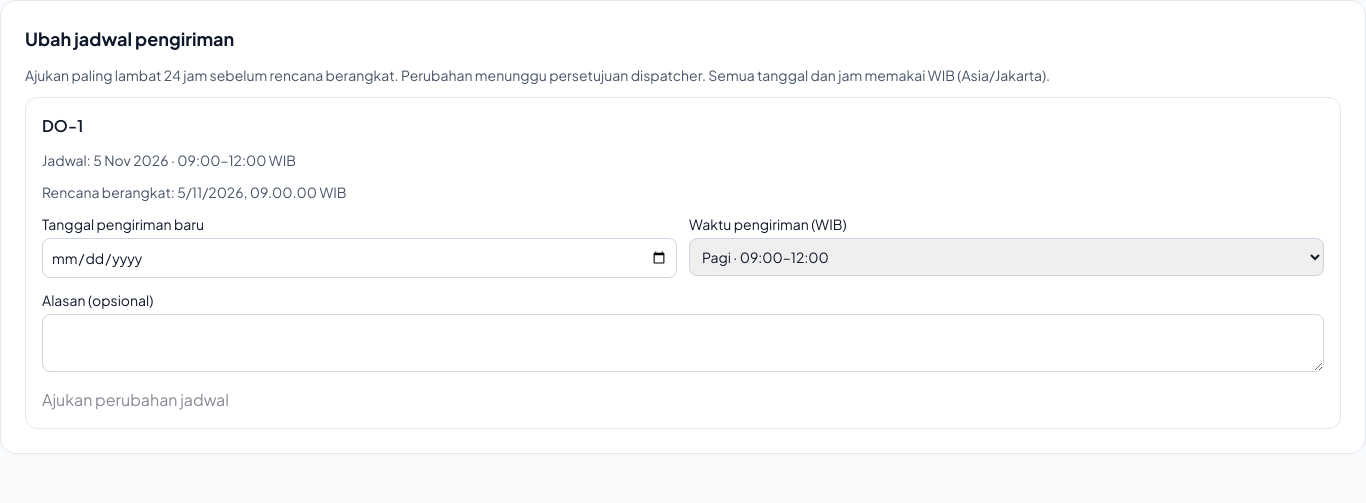
Scenario: Customer rescheduling › shows backend cutoff errors without pretending request succeeded
Expected: the heading "DO-1" is shown, 42,115 -> 83,136
Type "2026-11-06" into the date field labelled "Tanggal pengiriman baru". click: (360, 258)
box: 42,238 -> 677,278
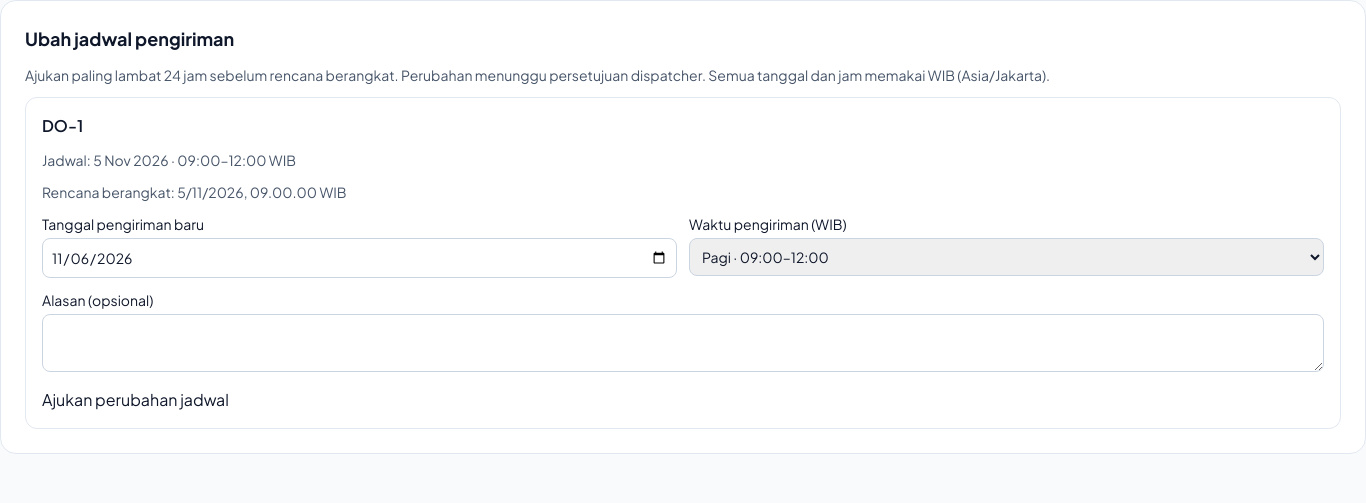
Click the button "Ajukan perubahan jadwal". click: (135, 400)
box: 42,388 -> 229,412
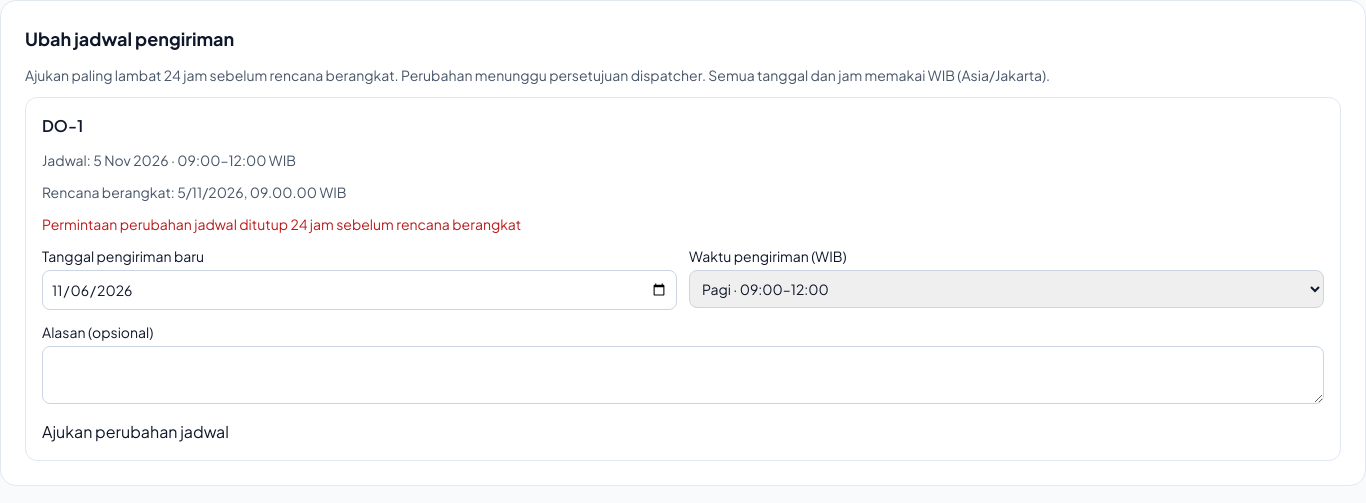
Expected: the message shows "24 jam", 42,215 -> 521,233
